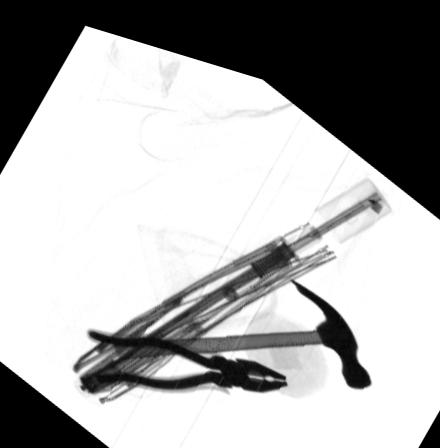Hammer: (111, 261, 372, 367)
Pliers: (84, 321, 287, 382)
